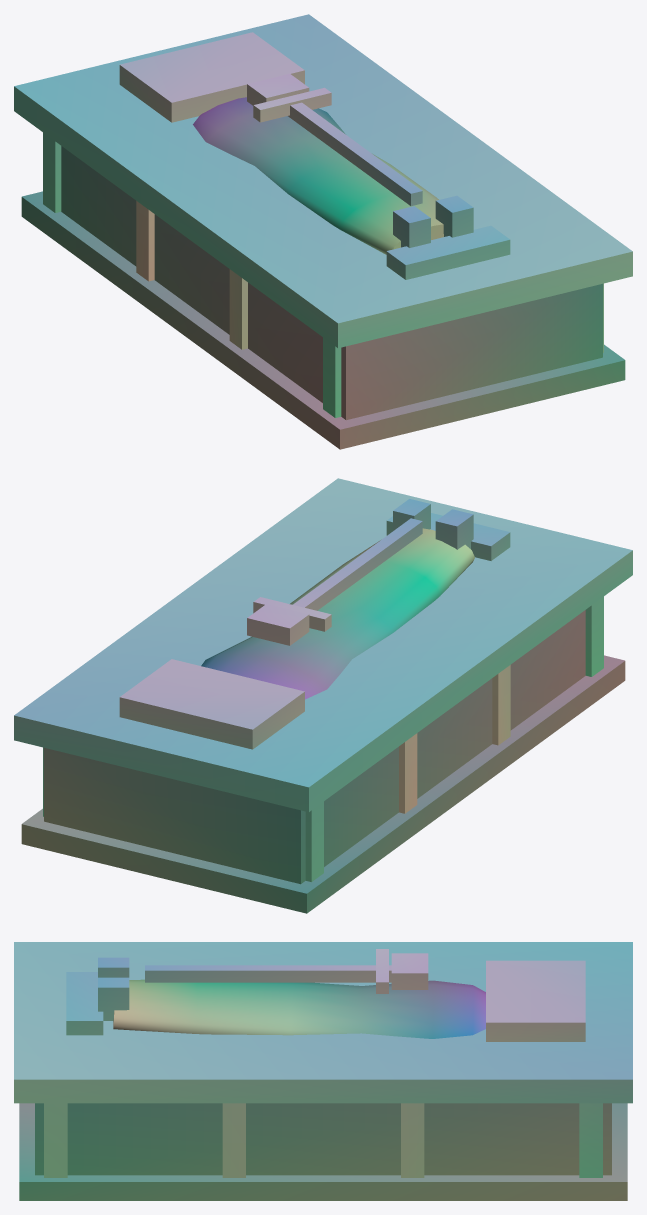
File: tomb_slab.glb
3 renders of one model, top to bottom at view 1: azimuth 30°, elevation 25°; view 2: azimuth 150°, elevation 25°; view 3: azimuth 270°, elevation 25°, orthographic. The views are drawn at different scales.
Visible parts, largest first — view 1: tomb_trim, tomb, effigy; view 2: tomb_trim, tomb, effigy; view 3: tomb_trim, tomb, effigy.
Boxes of the visible parts, left/top/right/bottom form: tomb_trim: left=14, top=14, right=632, bottom=417; tomb: left=21, top=146, right=625, bottom=449; effigy: left=193, top=97, right=443, bottom=254; tomb_trim: left=14, top=478, right=632, bottom=881; tomb: left=21, top=610, right=625, bottom=913; effigy: left=201, top=528, right=474, bottom=699; tomb_trim: left=14, top=942, right=632, bottom=1177; tomb: left=19, top=1103, right=627, bottom=1200; effigy: left=113, top=979, right=485, bottom=1038.
Bounding box in the file's own units: 1.24 × 0.72 × 2.36.
